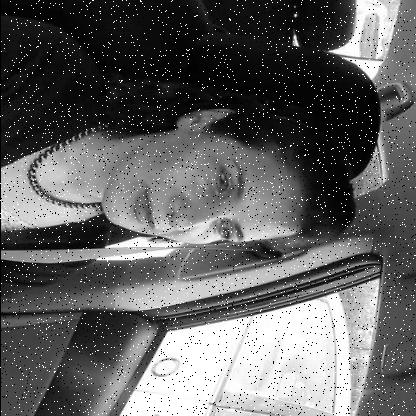seatbelt: (0, 101, 370, 292)
